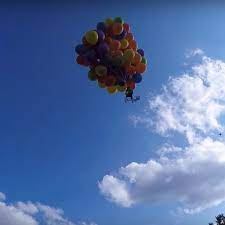Balloon: (85, 30, 98, 44), (112, 23, 123, 34), (98, 43, 109, 54), (95, 65, 107, 75), (136, 63, 146, 73), (76, 44, 86, 54), (120, 39, 129, 48), (111, 40, 120, 49), (89, 72, 98, 80)
